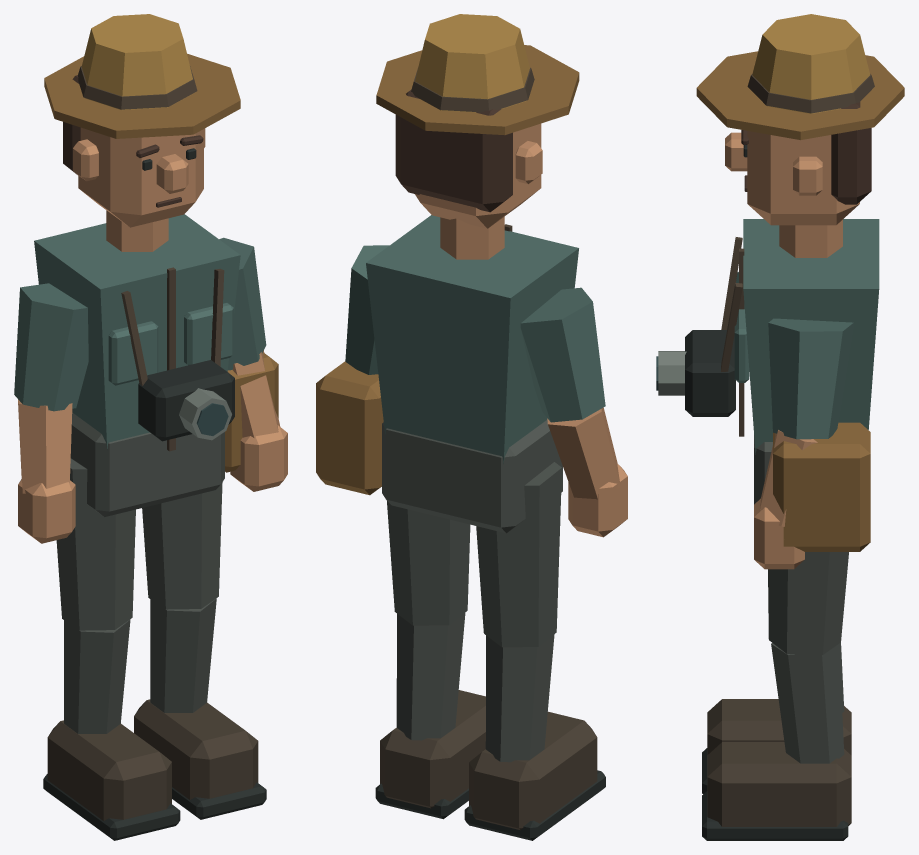
File: zenscape-camper-photographer-v01.glb
3 views of the same model, side by side, from view 1: azimuth 30°, elevation 25°; view 2: azimuth 150°, elevation 25°; view 3: azimuth 270°, elevation 25° (orthographic). The views are drawn at different scales.
Parts seen in each view (by area): view 1: Jacket, Hips, Boot, Trouser thigh, Trouser thigh.001, Boot.001, Upper sleeve, Hat brim, Hat crown, Head, Trouser cuff.001, Trouser cuff (+21 smaller); view 2: Jacket, Hips, Trouser thigh, Boot, Upper sleeve, Hair back, Trouser thigh.001, Hat crown, Field satchel, Hat brim, Boot.001, Trouser cuff.001 (+10 smaller); view 3: Jacket, Boot.001, Field satchel, Upper sleeve.001, Hat crown, Hat brim, Trouser thigh.001, Trouser cuff.001, Head, Camera, Boot, Hair back (+13 smaller).
Boxes of the visible parts, left/top/right/bottom form: Jacket: left=34, top=214, right=240, bottom=449; Hips: left=70, top=412, right=224, bottom=516; Boot: left=47, top=720, right=171, bottom=820; Trouser thigh: left=56, top=458, right=135, bottom=630; Trouser thigh.001: left=142, top=482, right=222, bottom=609; Boot.001: left=134, top=699, right=258, bottom=799; Upper sleeve: left=14, top=283, right=88, bottom=411; Hat brim: left=44, top=53, right=240, bottom=138; Hat crown: left=81, top=14, right=195, bottom=110; Head: left=78, top=127, right=203, bottom=227; Trouser cuff.001: left=150, top=598, right=216, bottom=712; Trouser cuff: left=64, top=619, right=130, bottom=733; Jacket: left=366, top=215, right=578, bottom=463; Hips: left=382, top=420, right=562, bottom=533; Trouser thigh: left=476, top=462, right=561, bottom=647; Boot: left=469, top=711, right=597, bottom=830; Upper sleeve: left=520, top=287, right=605, bottom=422; Hair back: left=395, top=89, right=512, bottom=212; Trouser thigh.001: left=387, top=501, right=470, bottom=625; Hat crown: left=415, top=14, right=529, bottom=112; Field satchel: left=316, top=361, right=383, bottom=495; Hat brim: left=376, top=45, right=579, bottom=135; Boot.001: left=380, top=690, right=485, bottom=808; Trouser cuff.001: left=396, top=613, right=465, bottom=740; Jacket: left=743, top=219, right=879, bottom=454; Boot.001: left=707, top=742, right=851, bottom=826; Field satchel: left=773, top=422, right=870, bottom=551; Upper sleeve.001: left=768, top=318, right=853, bottom=439; Hat crown: left=752, top=14, right=870, bottom=113; Hat brim: left=696, top=51, right=904, bottom=140; Trouser thigh.001: left=768, top=552, right=848, bottom=654; Trouser cuff.001: left=771, top=643, right=844, bottom=763; Head: left=747, top=131, right=859, bottom=225; Camera: left=685, top=330, right=735, bottom=416; Boot: left=707, top=699, right=851, bottom=755; Hair back: left=831, top=102, right=871, bottom=204.
Bounding box in the file's own units: 0.7187 × 2 × 0.585.
